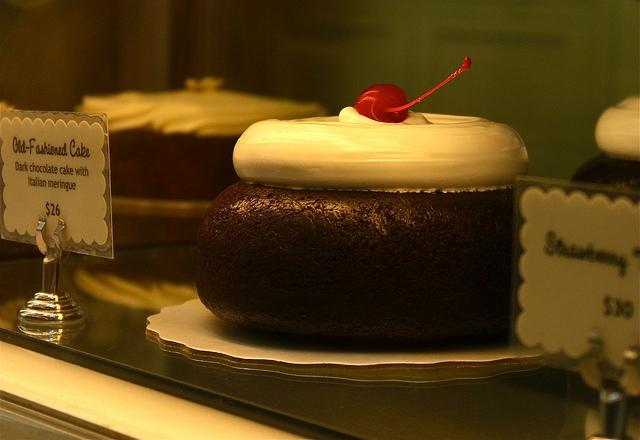cherry: (353, 56, 472, 123)
